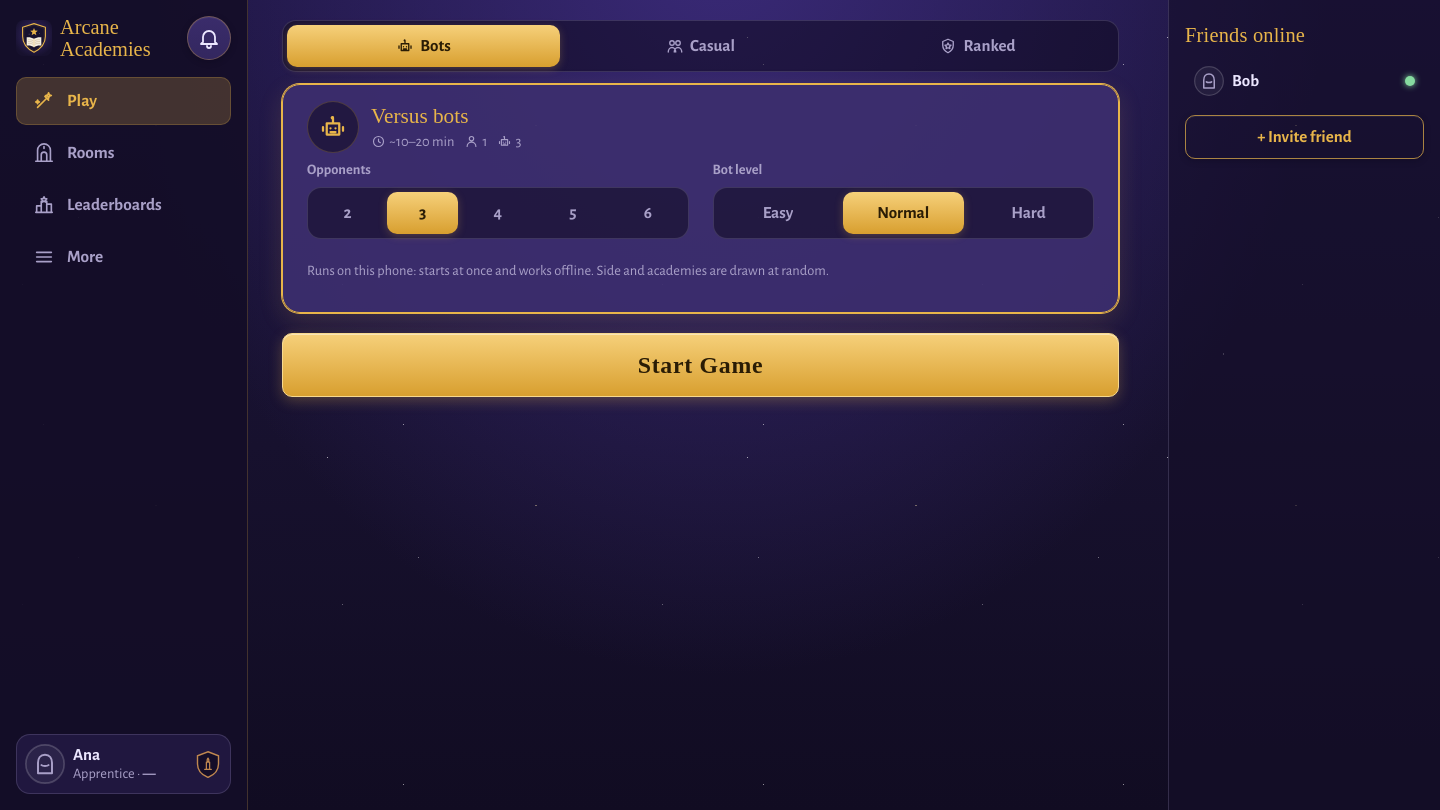
Test: laptop layout › lists online friends on the right with Invite friend
Check: the text "Bob" is shown, box left=1232, top=72, right=1259, bottom=90
Check: the text "Cyd" is not shown
Click the button "+ Invite friend" at (1304, 138), box left=1185, top=116, right=1424, bottom=160
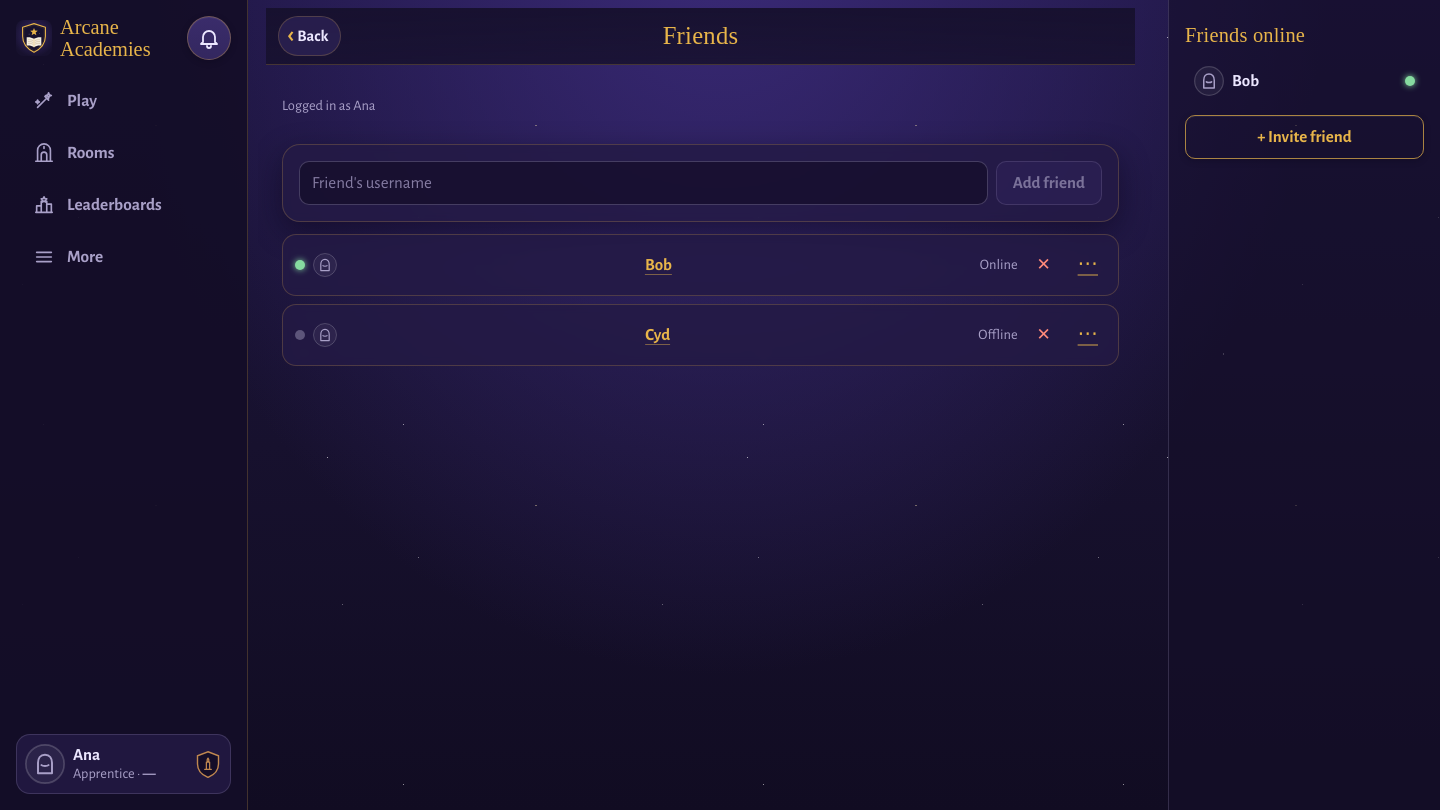
Check: the heading "Friends" is shown, box left=663, top=22, right=738, bottom=50
